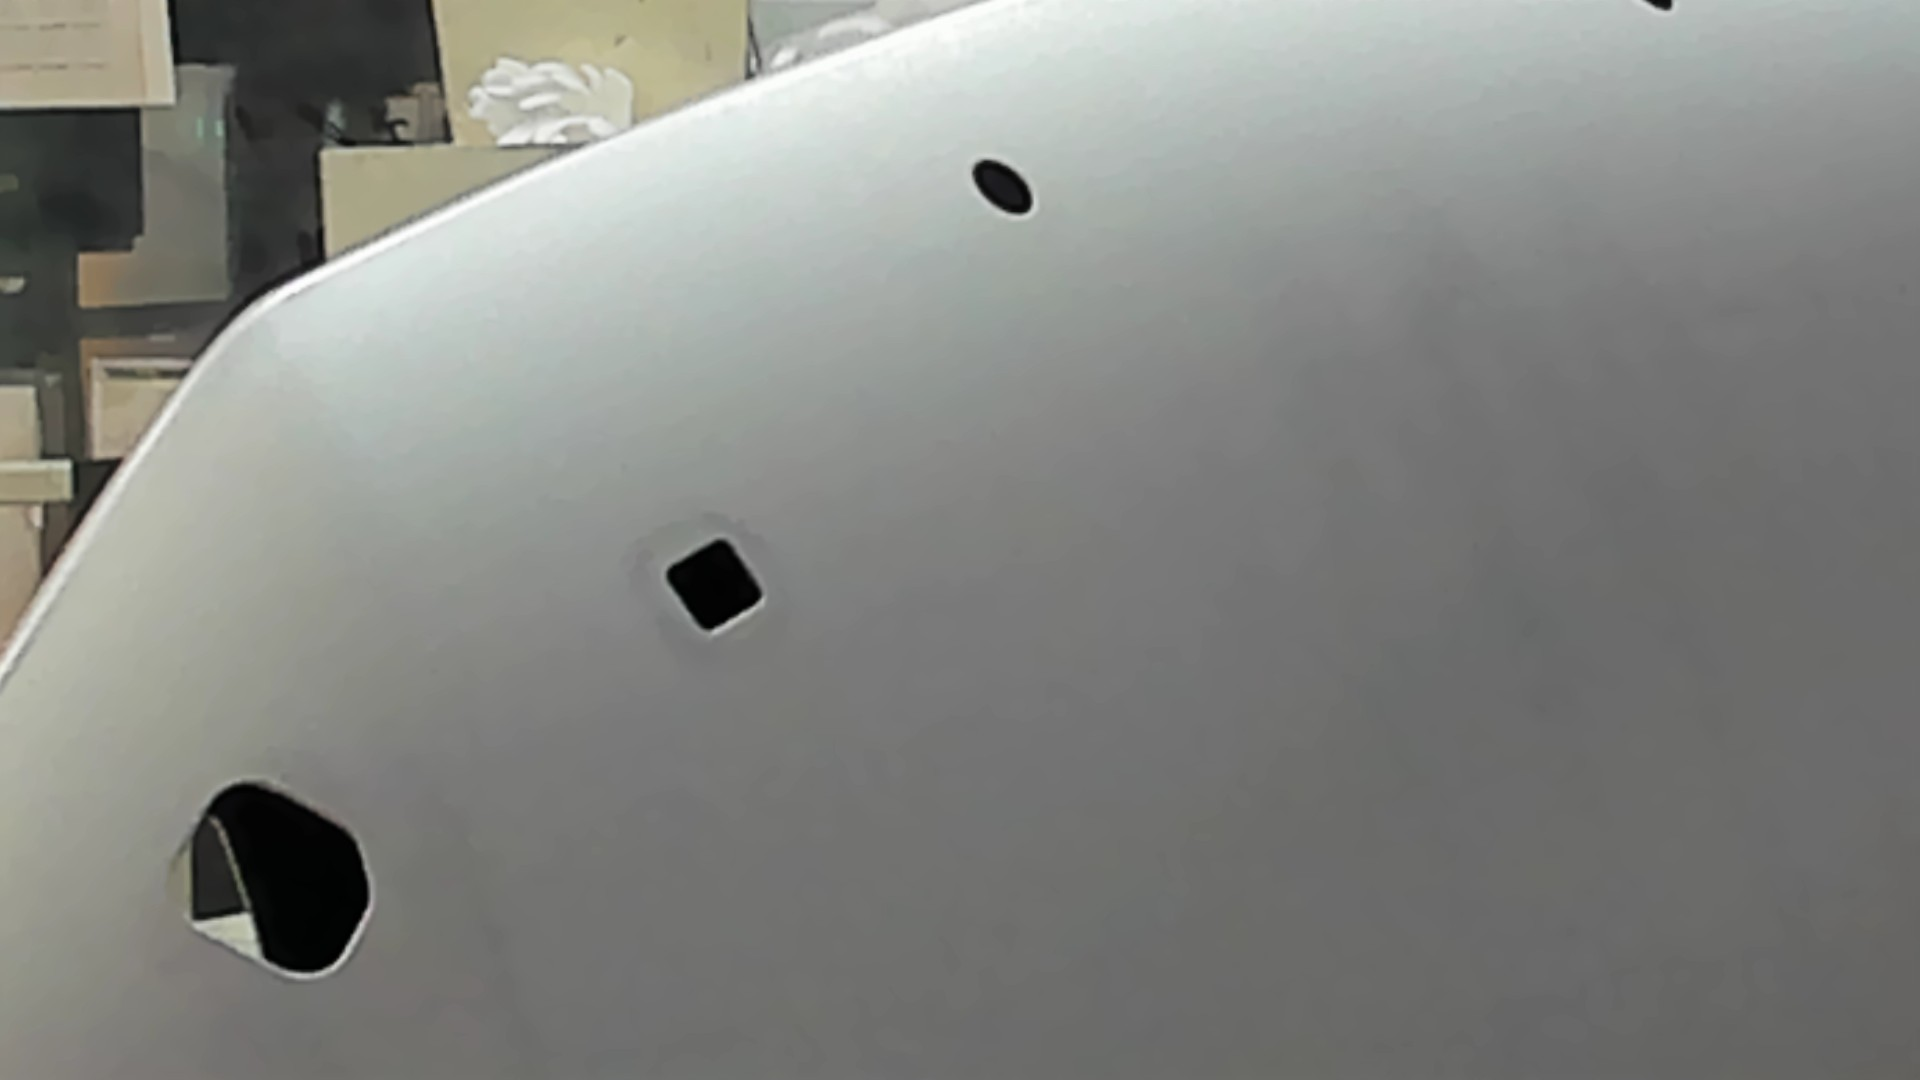Agujero: (665, 535, 766, 634), (969, 156, 1033, 216)
Agujerote: (169, 781, 377, 984)
